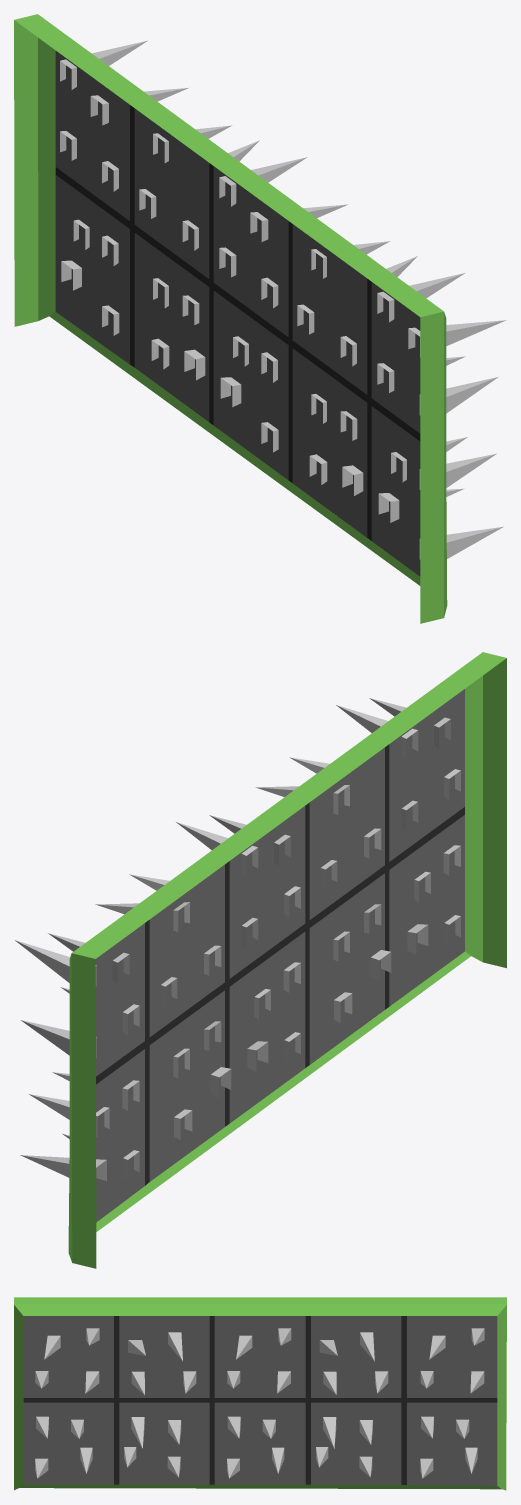
File: Spikewall5.fbx
3 views of the same model, one above another, from view 1: azimuth 30°, elevation 25°; view 2: azimuth 150°, elevation 25°; view 3: azimuth 270°, elevation 25° (orthographic). The views are drawn at different scales.
Parts seen in each view (by area): view 1: Plane; view 2: Plane; view 3: Plane.
Part boxes in pixels (x1,y1,x2,y2): Plane: (14, 14, 506, 623); Plane: (15, 652, 506, 1268); Plane: (14, 1297, 506, 1490).
Bounding box in the file's own units: 0.7622 × 2 × 4.8.
